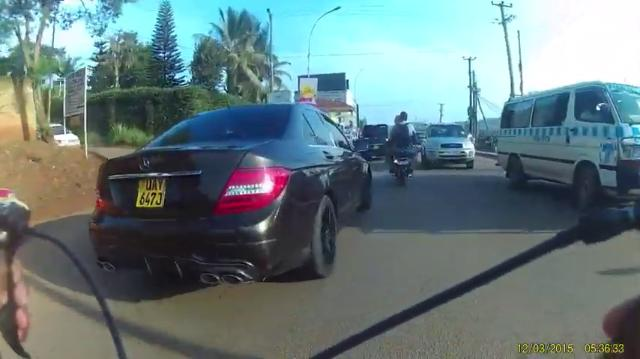car: (87, 102, 376, 288), (422, 120, 478, 171)
motorcycle: (384, 114, 421, 190)
van: (498, 79, 639, 206)
